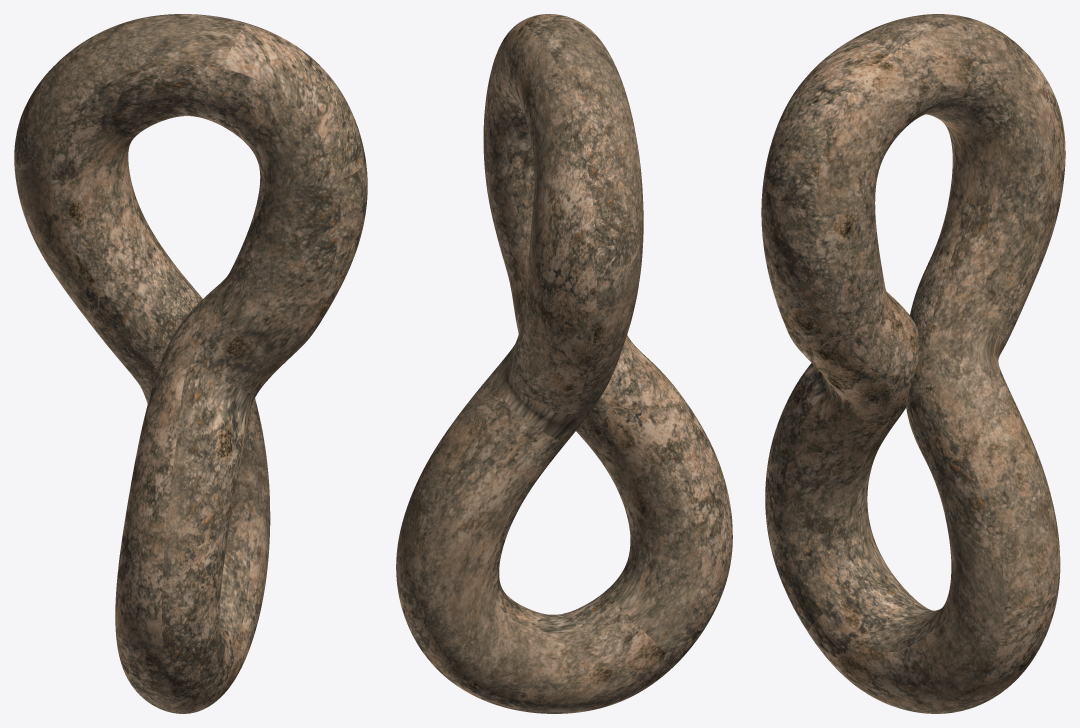
The model's file is Infinito.fbx.
3 renders of one model, left to right at view 1: azimuth 30°, elevation 25°; view 2: azimuth 150°, elevation 25°; view 3: azimuth 270°, elevation 25°, orthographic.
Visible parts, largest first — view 1: Cube; view 2: Cube; view 3: Cube.
Part boxes in pixels (x1,y1,x2,y2): Cube: (14,14,367,713); Cube: (396,14,732,713); Cube: (761,14,1065,713).
Bounding box in the file's own units: 1316 × 3522 × 1427.
